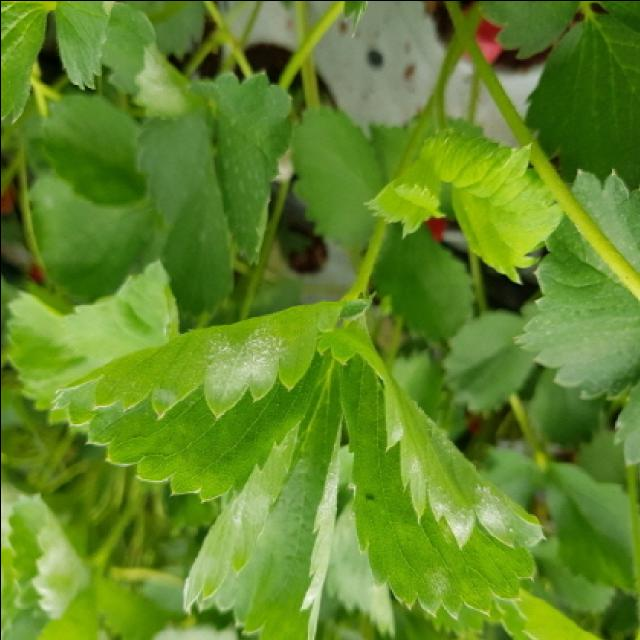Powdery Mildew Leaf: (317, 311, 547, 623), (49, 297, 369, 504), (180, 350, 343, 640)
